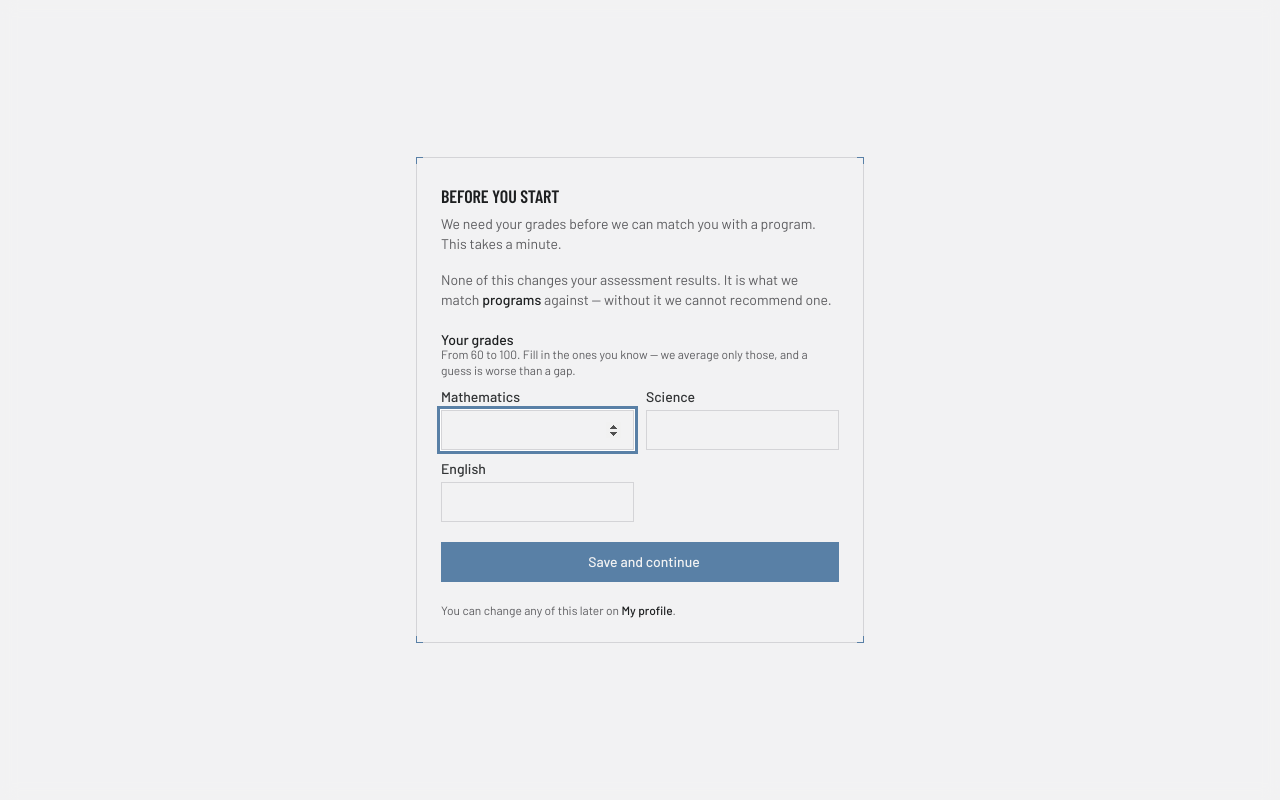
Scenario: the profile gate › stays put when the student submits nothing, and says why
The image size is (1280, 800).
Expected: the dialog with test id "profile-gate" is shown, [416,157,864,643]
Click the button "Save and continue" at (640, 562), box [441,542,839,582]
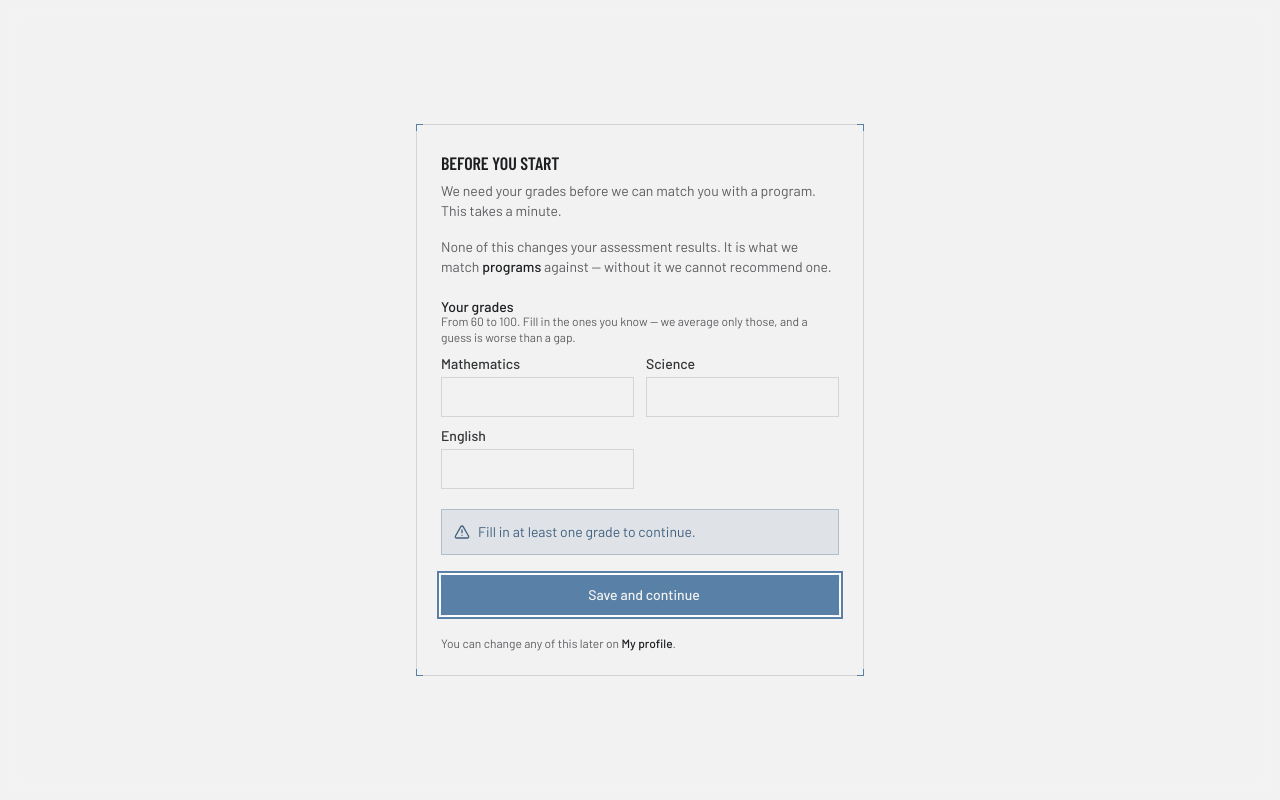
Now the text "Fill in at least one grade to continue." is shown, box [478,522,696,542]
